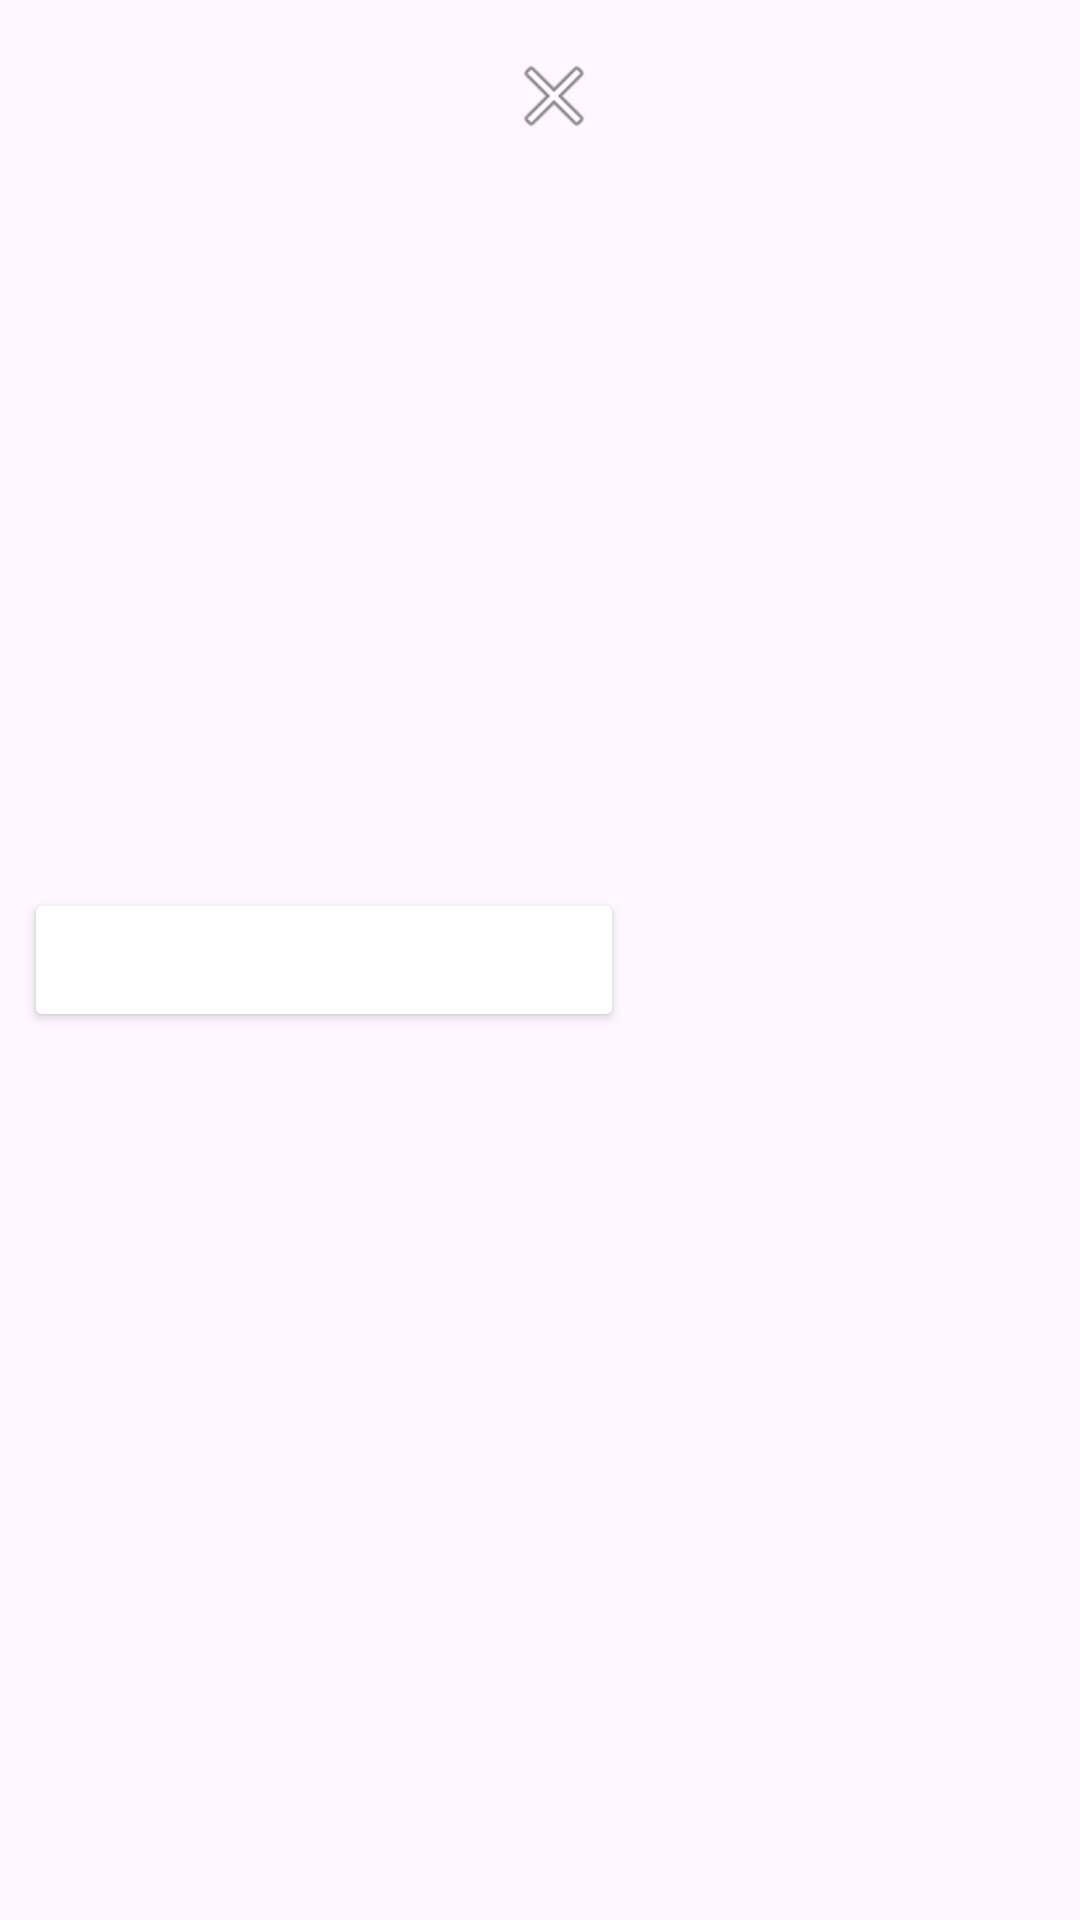

Named icons in this screenshot (1080w x 1920h) and their bounding boxes, (x1=x1, y1=y1, x2=x2, y2=y2):
Кнопка удалить город: (x1=524, y1=66, x2=584, y2=126)
